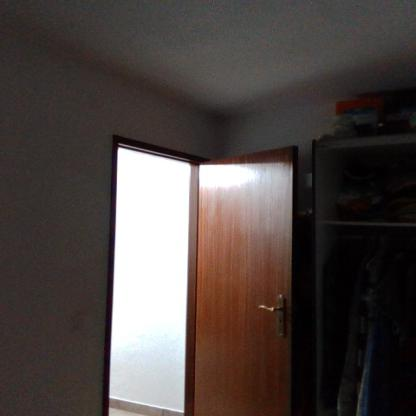open: (101, 122, 310, 416)
